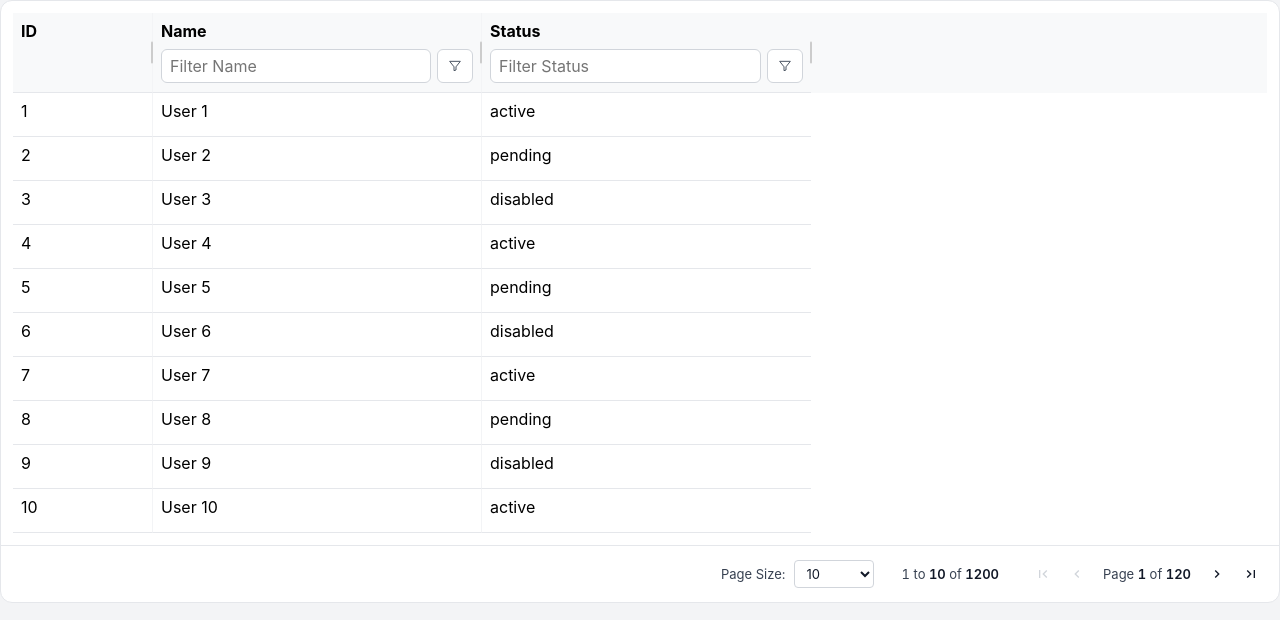
Scenario: DataGrid › edits a cell value inline
Step 1. Double-click the button "User 1" → (184, 111), box top-left (161, 101), bottom-right (208, 121)
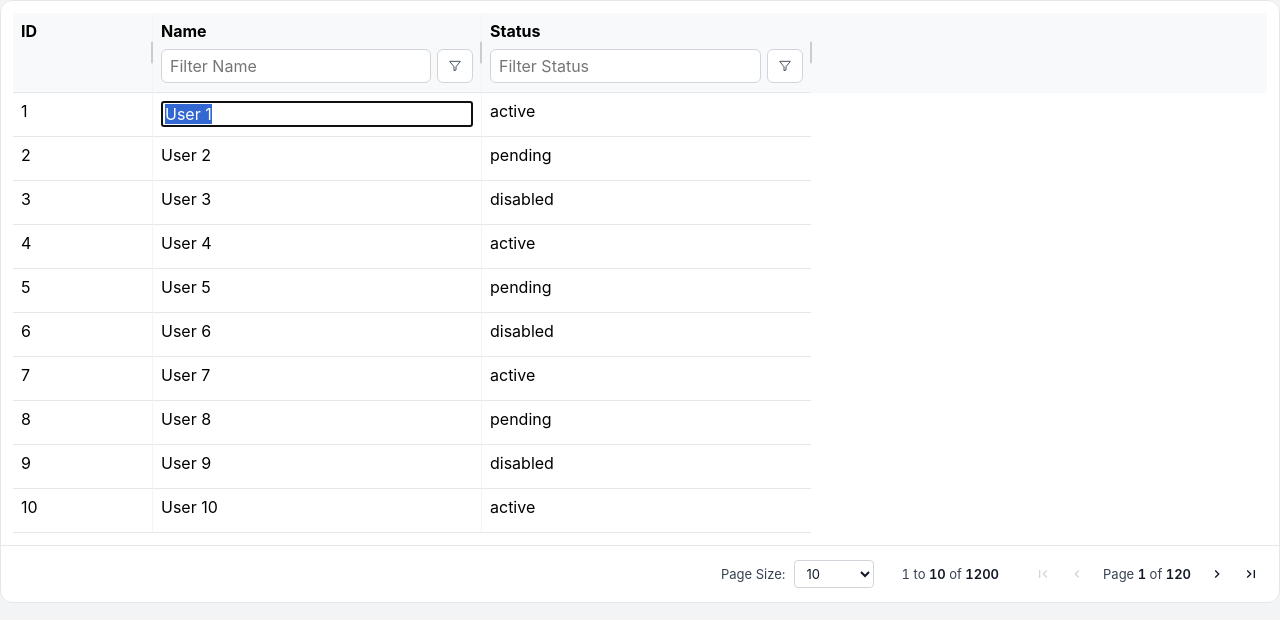
Step 2. Replace the text in the field showing "User 1" with "Updated User" → (317, 114), box top-left (161, 101), bottom-right (473, 127)
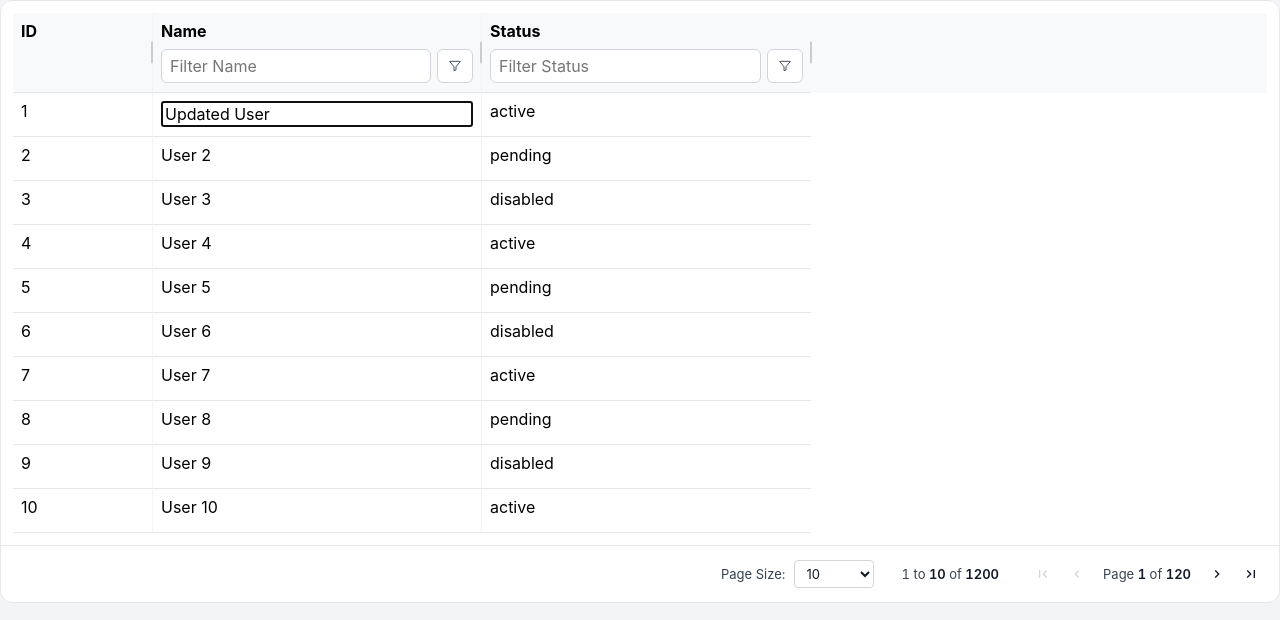
Step 3. Press Enter
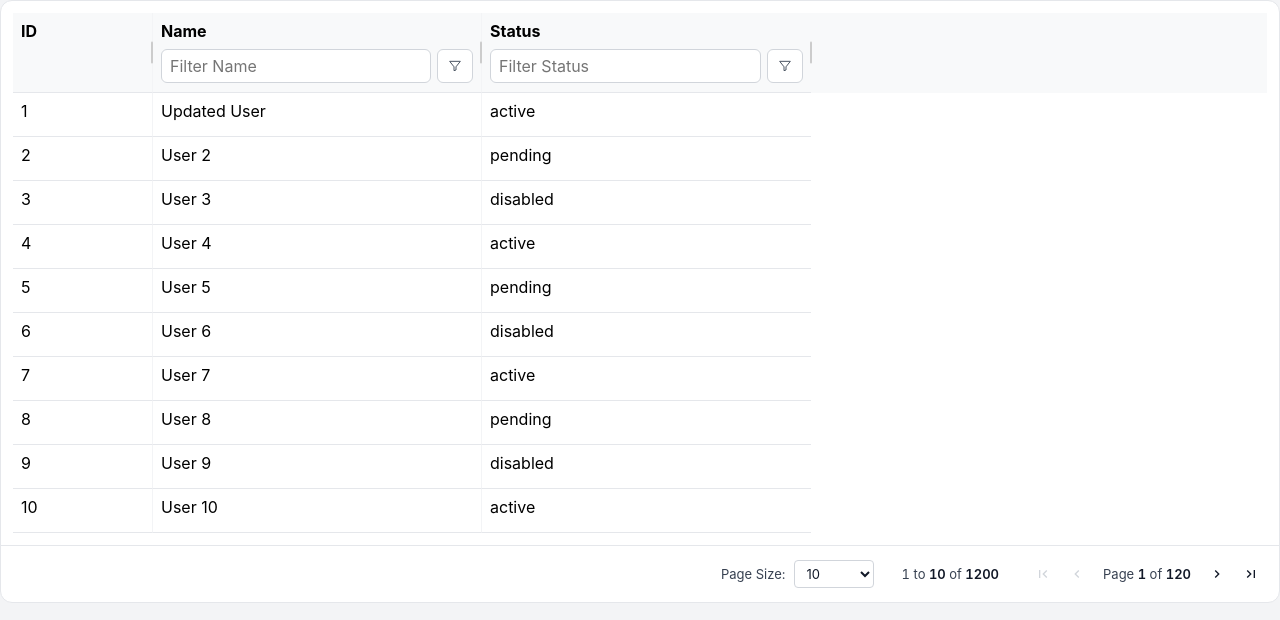
Expected: the button "Updated User" is shown, top-left (161, 101), bottom-right (266, 121)
